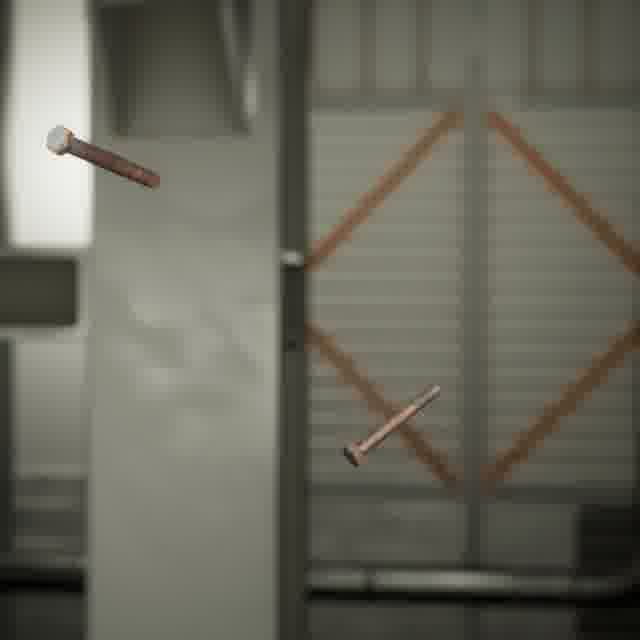bolt: (337, 378, 446, 471), (42, 120, 164, 192)
